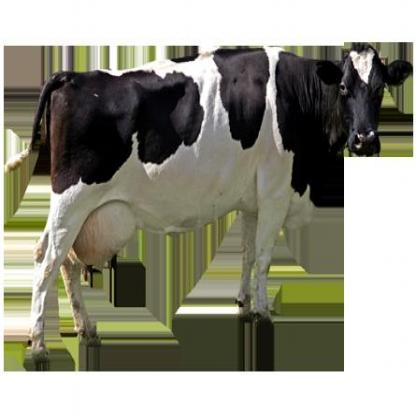cow: (6, 40, 412, 364)
